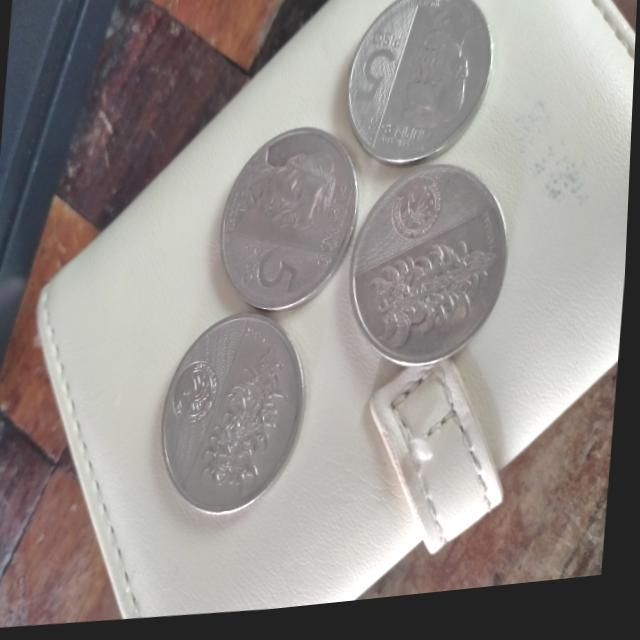5_New_Back: (195, 331, 302, 513), (366, 233, 497, 358)
5_New_Front: (340, 22, 409, 126), (237, 232, 307, 316)
